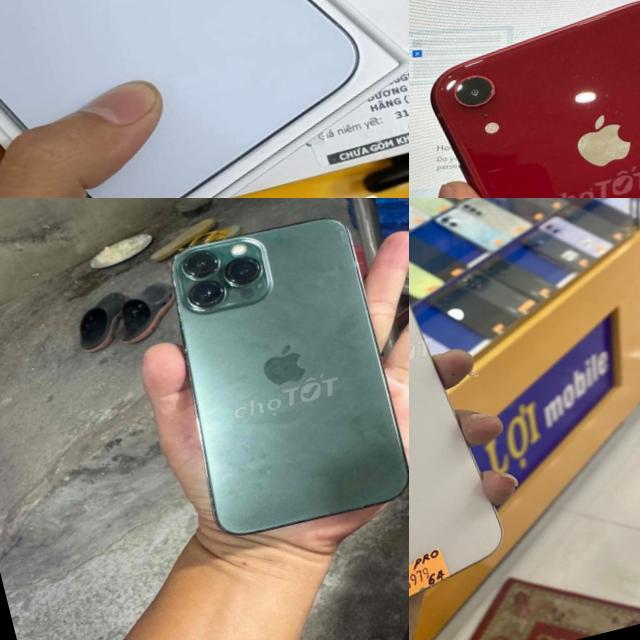scratch: (529, 56, 634, 148), (462, 72, 478, 85), (482, 84, 497, 96)
